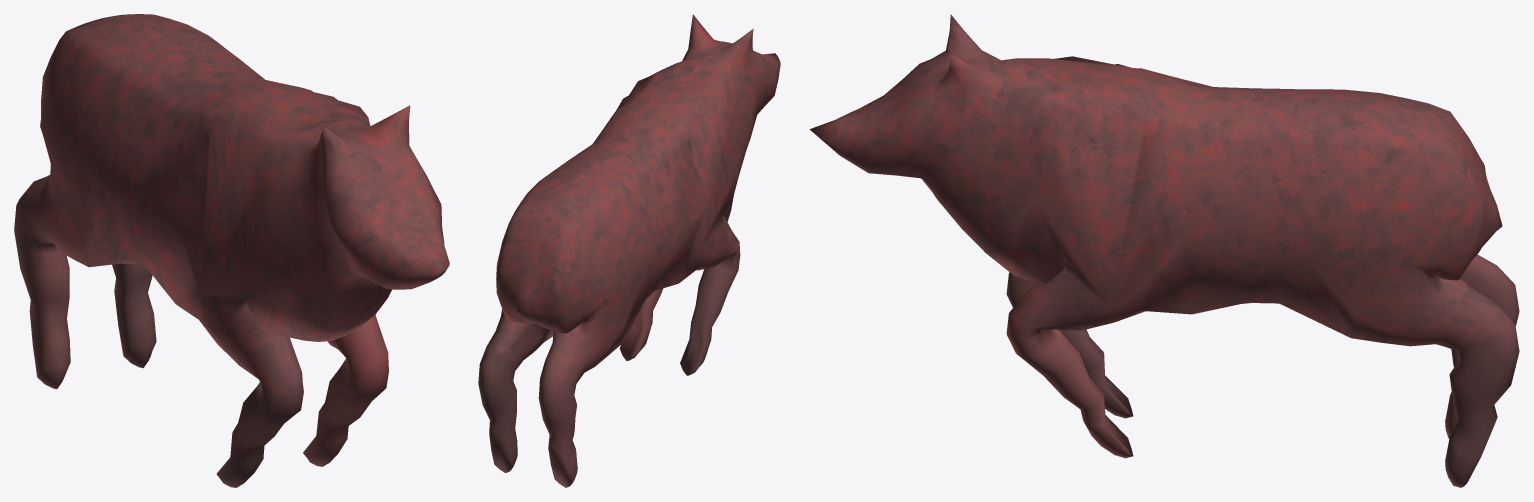
File: piesblend_000026.obj
3 views of the same model, side by side, from view 1: azimuth 30°, elevation 25°; view 2: azimuth 150°, elevation 25°; view 3: azimuth 270°, elevation 25° (orthographic). The views are drawn at different scales.
Visible parts, largest first — view 1: Cube; view 2: Cube; view 3: Cube.
Part boxes in pixels (x1,y1,x2,y2): Cube: (14,14,449,487); Cube: (478,14,780,487); Cube: (810,14,1519,487).
Bounding box in the file's own units: 2.55 × 6.38 × 9.44.
Materials: 1 (1 with a texture image).
